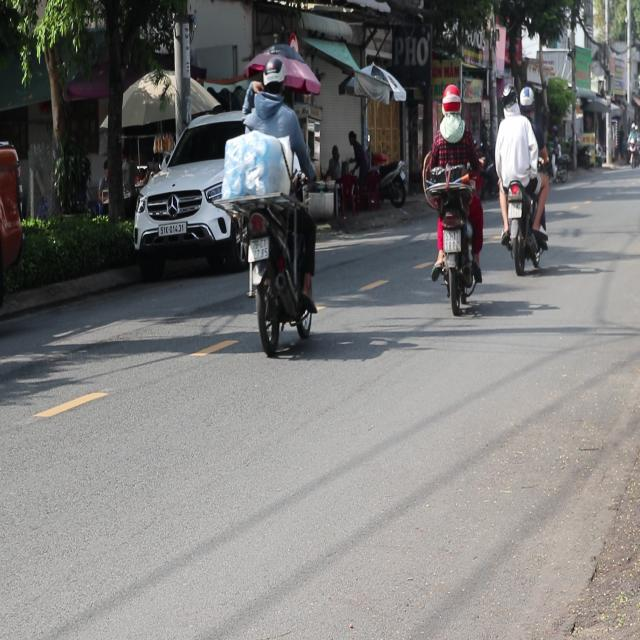helmet: (260, 54, 286, 102), (441, 82, 462, 117), (501, 82, 518, 114), (518, 85, 534, 115)
licenseplate: (219, 48, 320, 354), (421, 81, 486, 312), (494, 82, 550, 274)
nohelmet: (248, 238, 268, 260), (443, 229, 461, 251), (508, 201, 521, 217)
